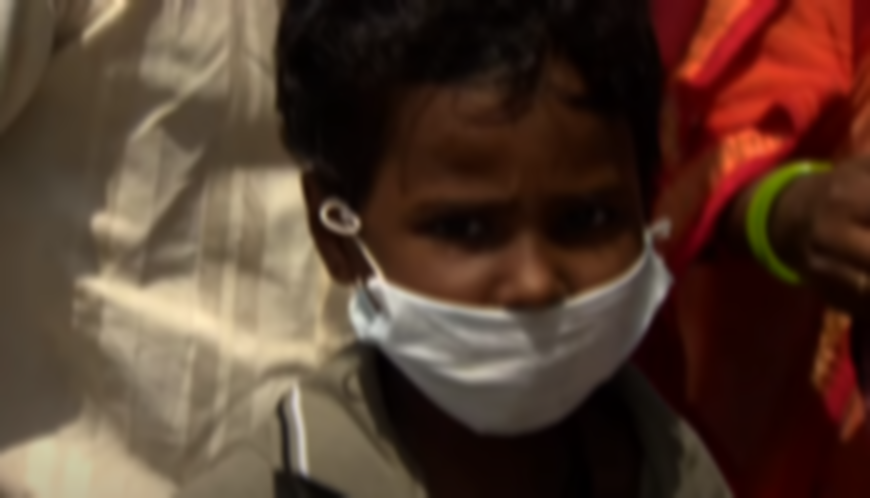mask_weared_incorrect: (308, 7, 676, 436)
